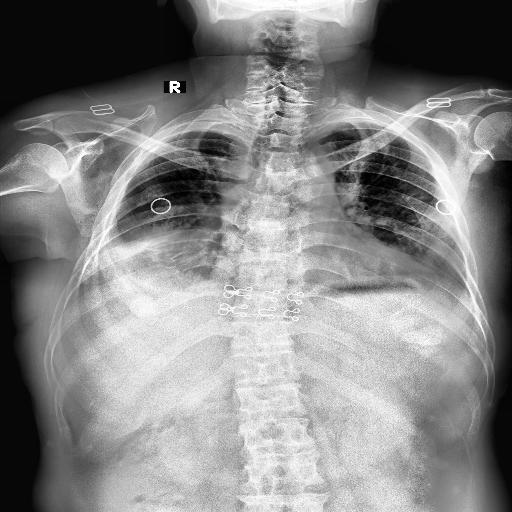0- Aortic enlargement: (270, 152, 332, 205), (286, 154, 338, 204)
10- Pleural effusion: (75, 233, 218, 281)
3- Cardiomegaly: (203, 232, 433, 294), (218, 242, 428, 298)
7- Lung Opacity: (88, 205, 220, 285), (108, 208, 230, 270), (75, 233, 218, 281)
9- Other lesion: (143, 186, 165, 204)
